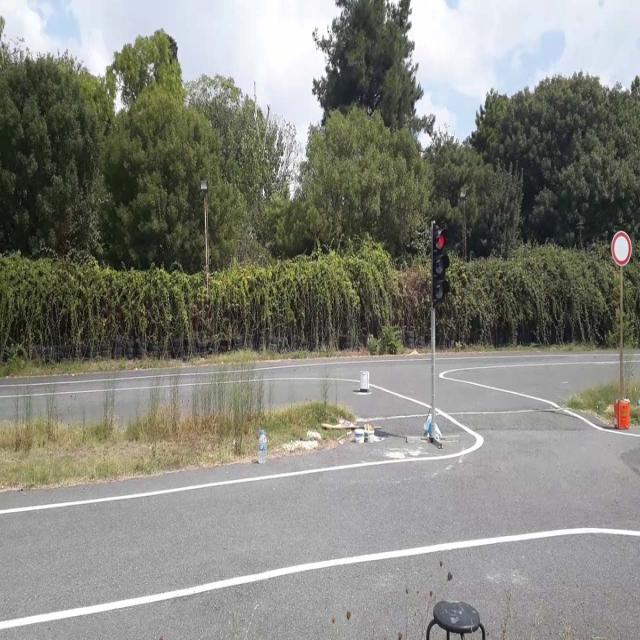kirmizi: (432, 228, 448, 302)
